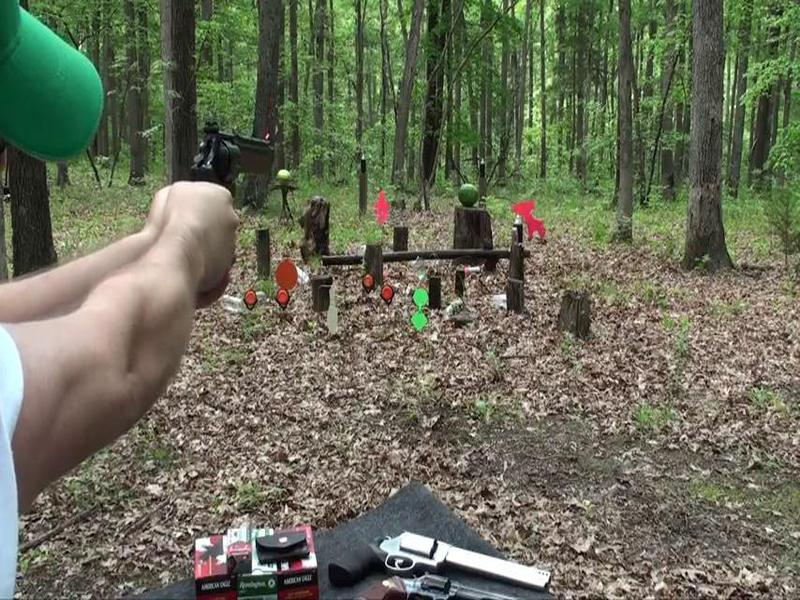Revolver: (172, 114, 291, 228)
